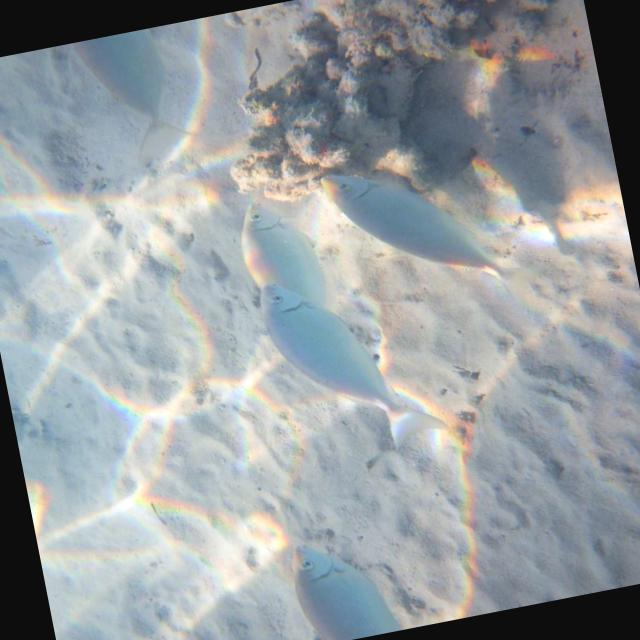Sokar Baligi: (304, 132, 536, 326)
